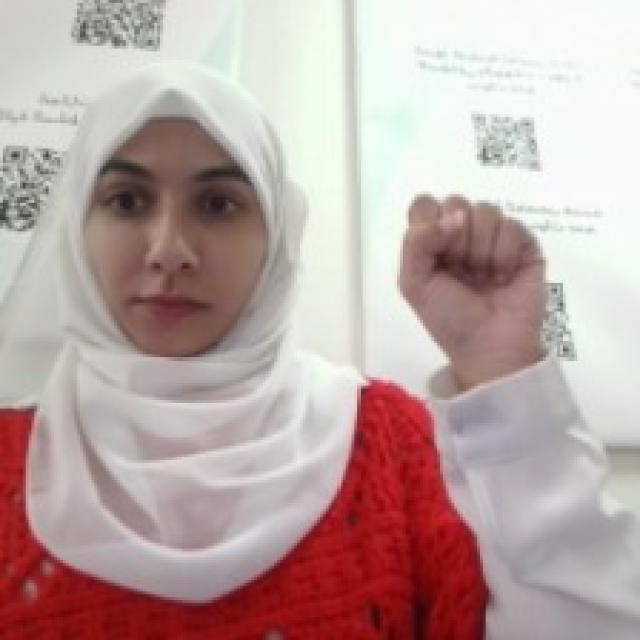yes: (392, 186, 552, 371)
